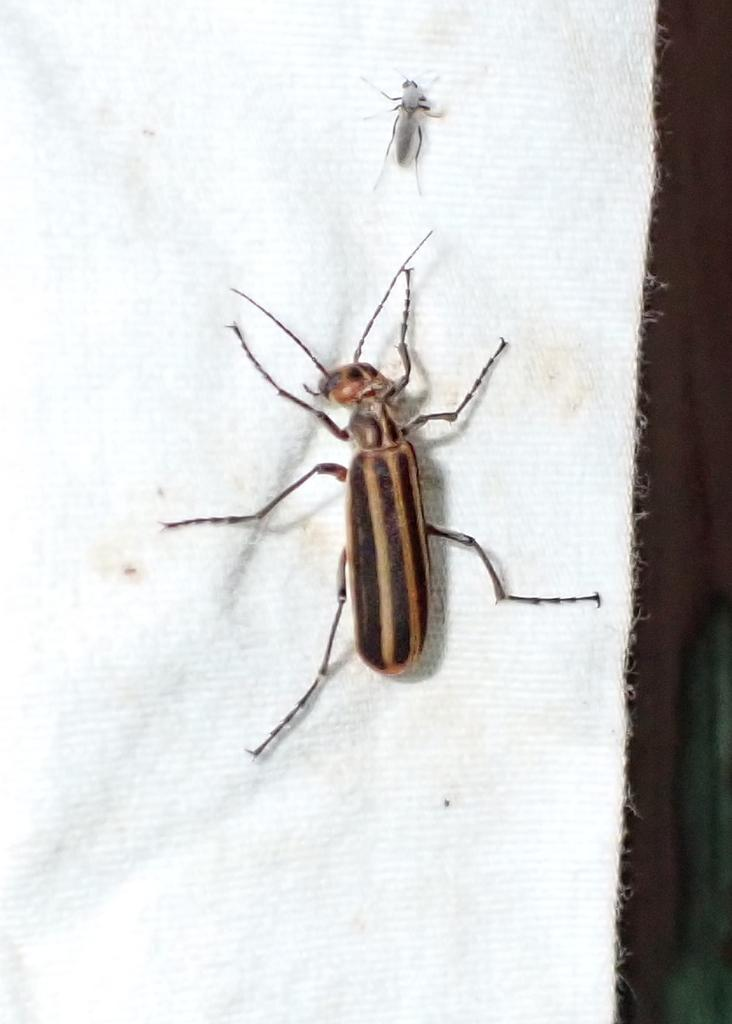blister_beetle: (129, 208, 651, 785)
